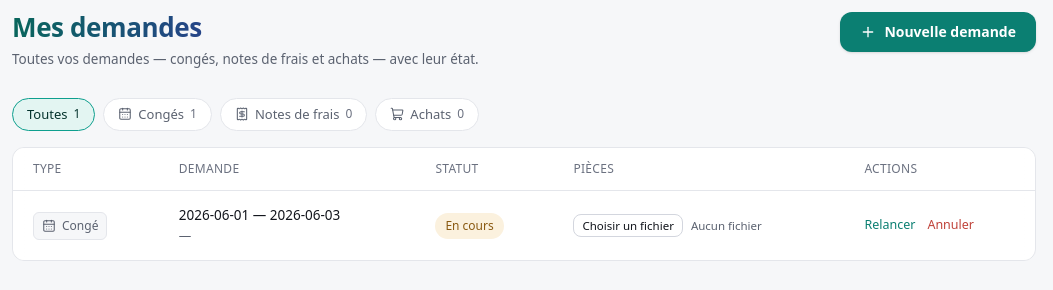
MesDemandesPage — les trois types regroupés › un filtre sans résultat l'indique et renvoie vers le bon formulaire
Expected: the text "2026-06-01 — 2026-06-03" is shown, [179,206,340,224]
Click the tab "Achats 0": (427, 114) [375,98,479,131]
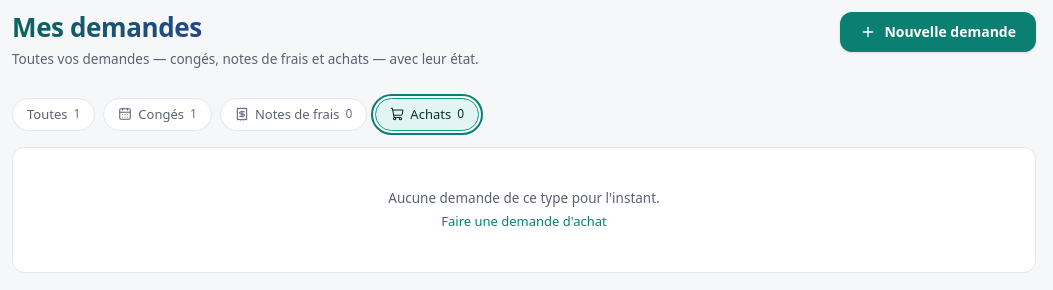
Expected: the text "Aucune demande de ce type pour l'instant." is shown, [388,189,660,207]
